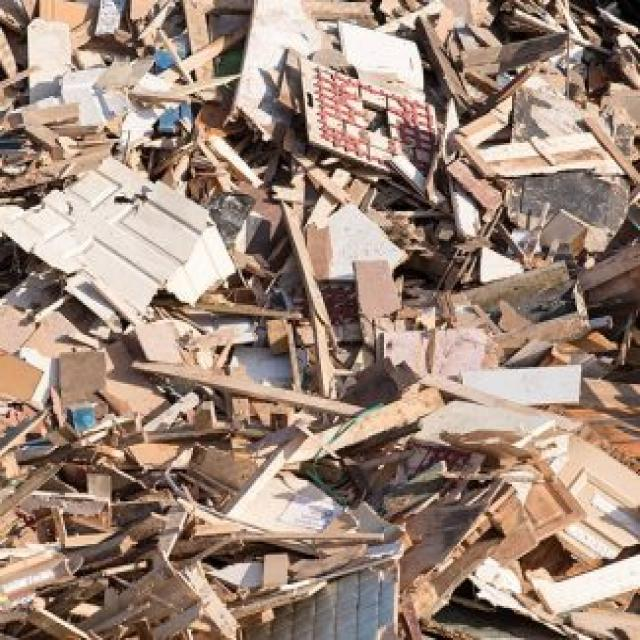green waste: (2, 1, 636, 640)
